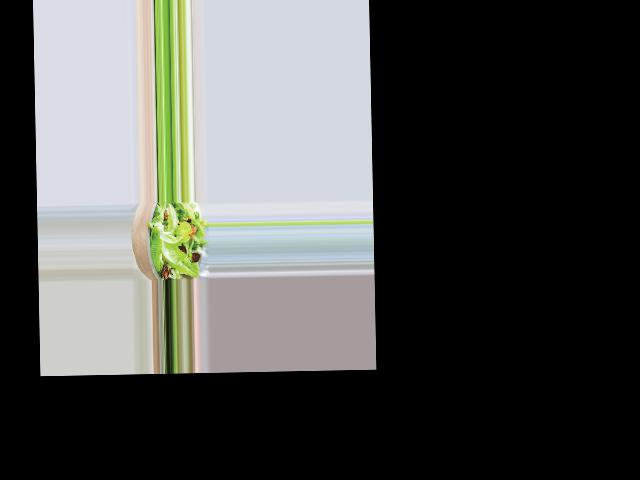lettuce: (149, 205, 204, 273)
